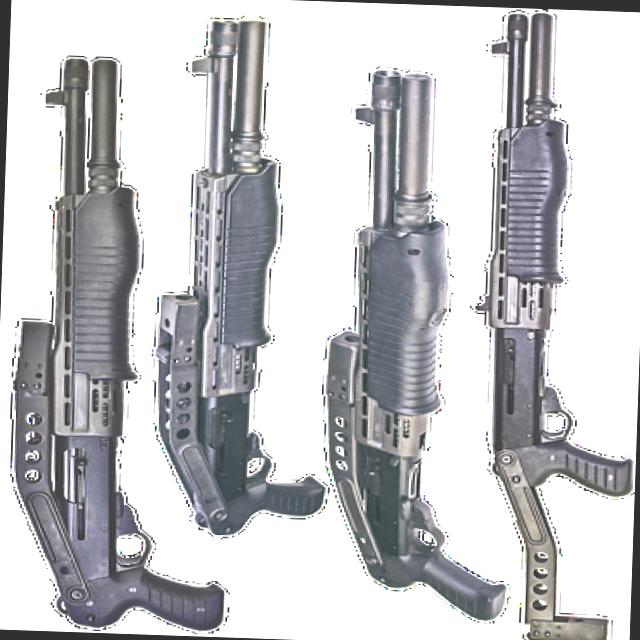long weapon: (0, 39, 213, 630), (339, 21, 503, 640), (482, 5, 632, 640), (148, 6, 322, 522)
